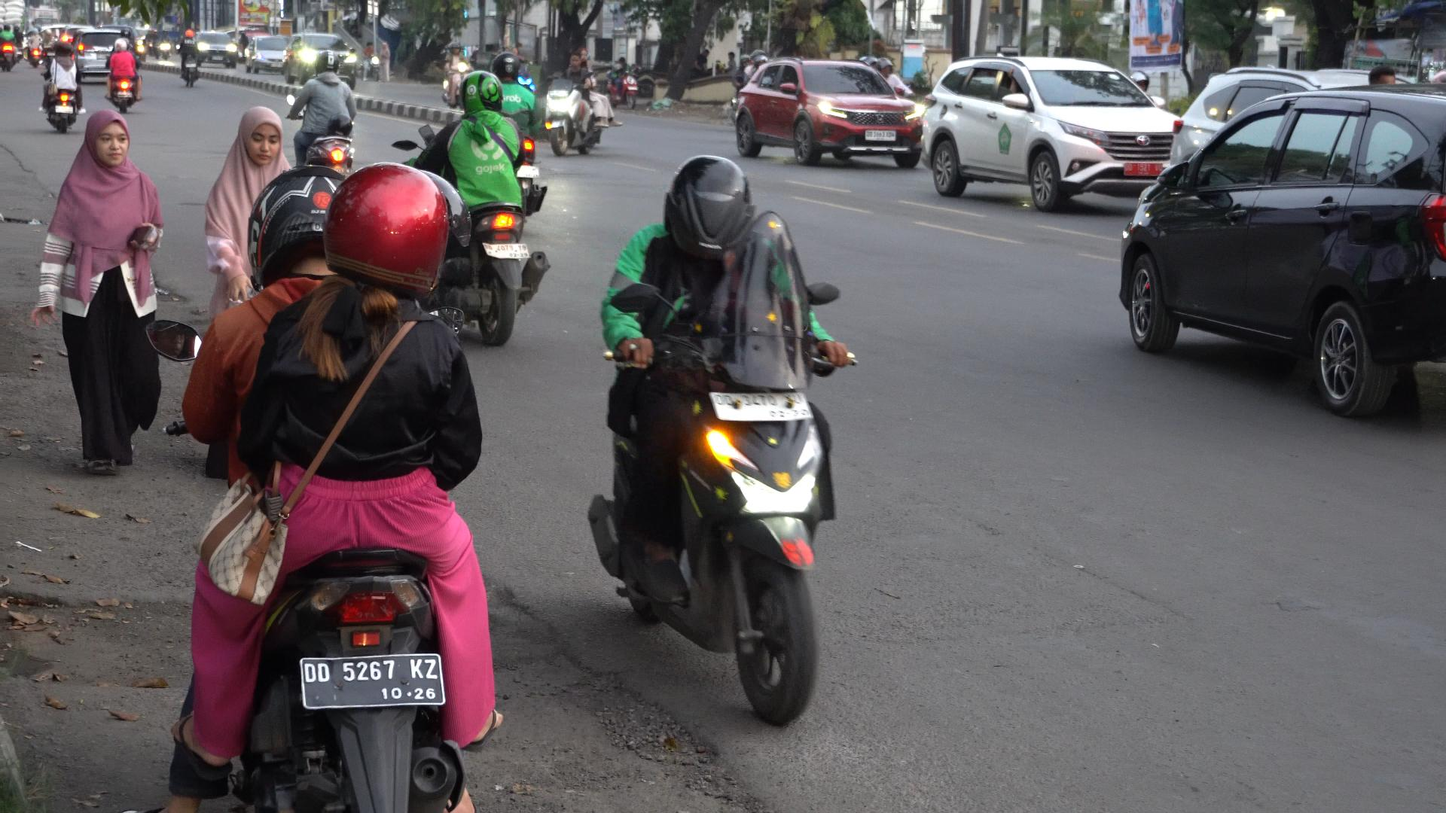number-plate: (709, 390, 817, 421)
